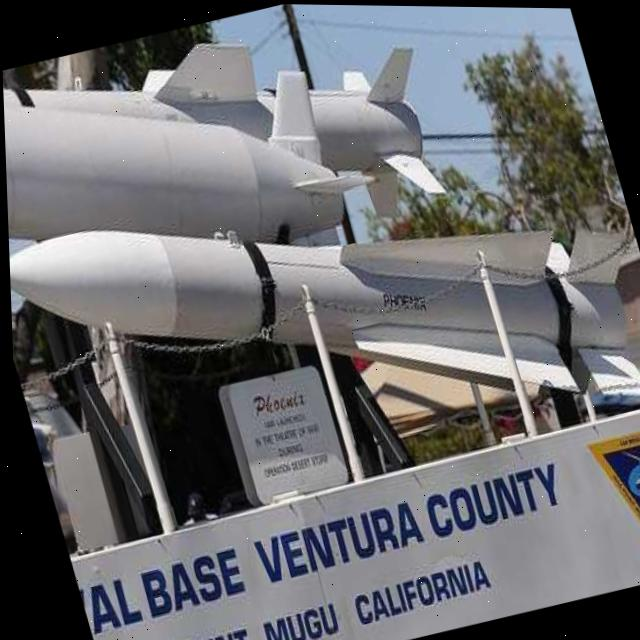missile: (3, 92, 640, 540), (0, 0, 468, 319)
